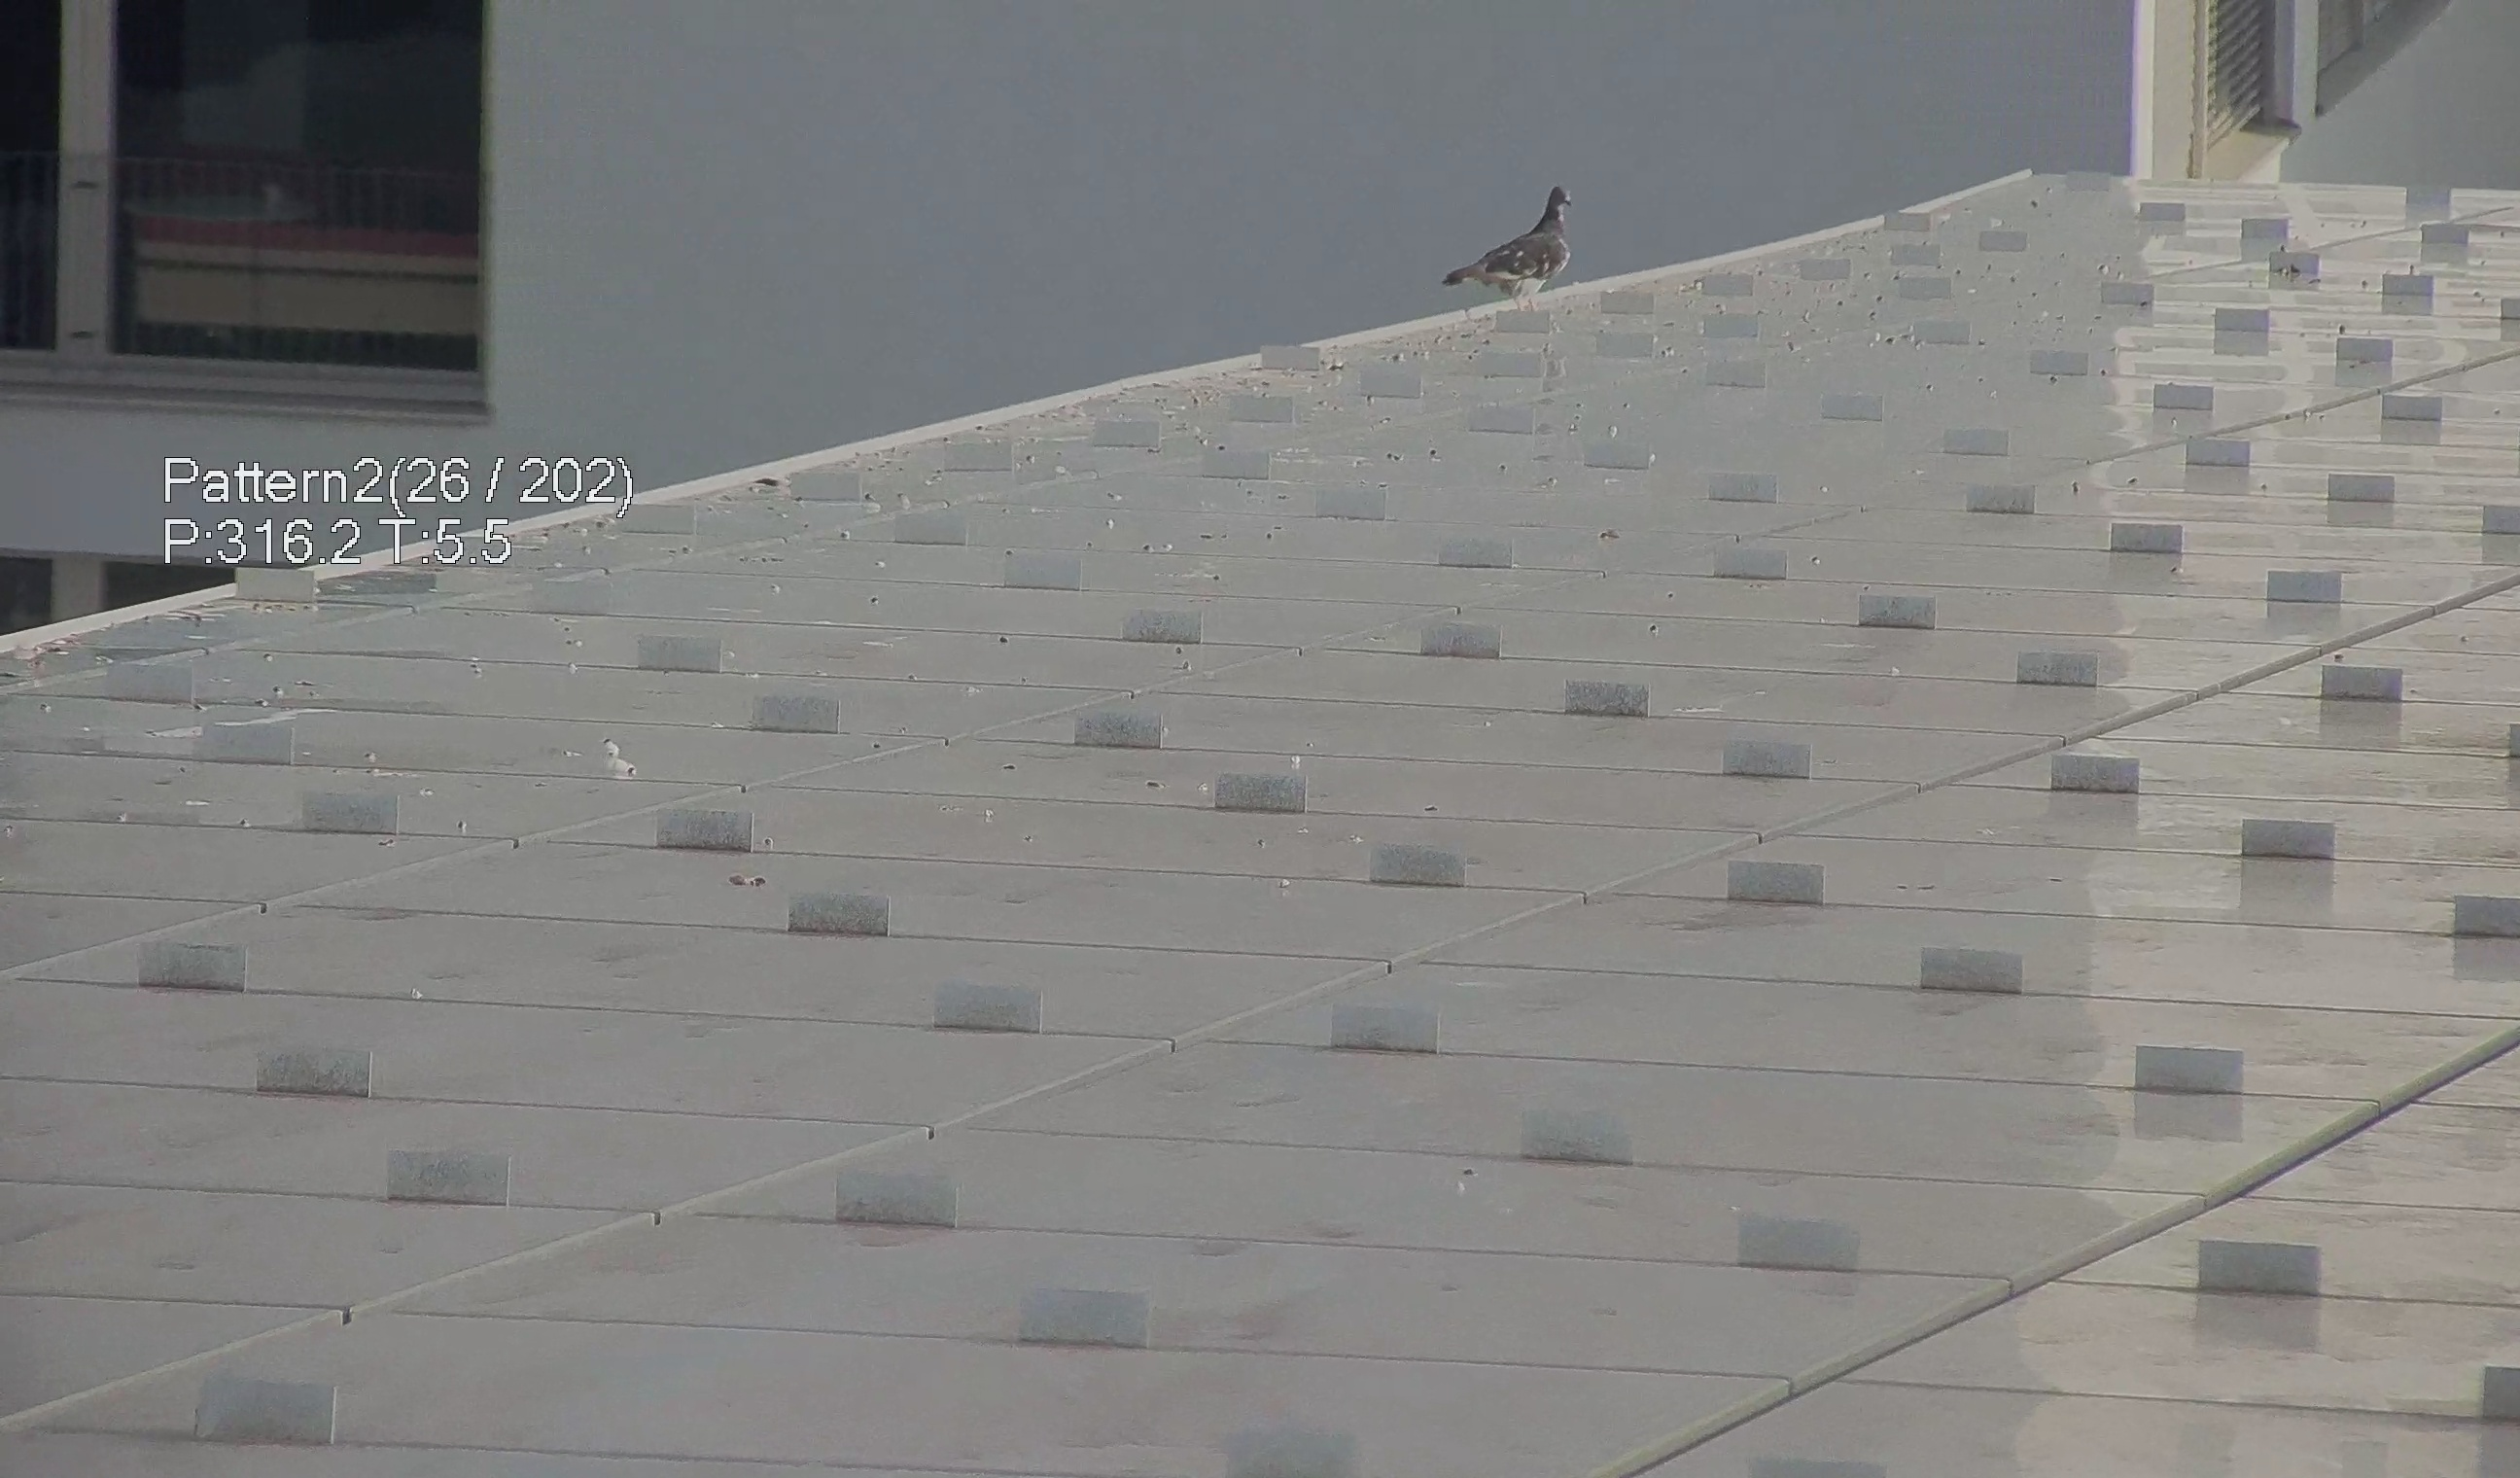Pigeon: (1437, 174, 1586, 301)
